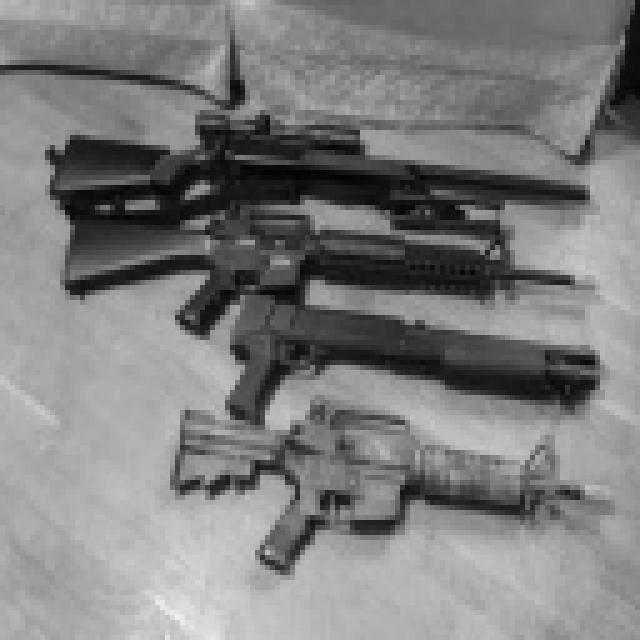Rifle: (127, 365, 627, 605), (26, 80, 615, 264), (45, 188, 596, 347), (201, 243, 628, 435)
